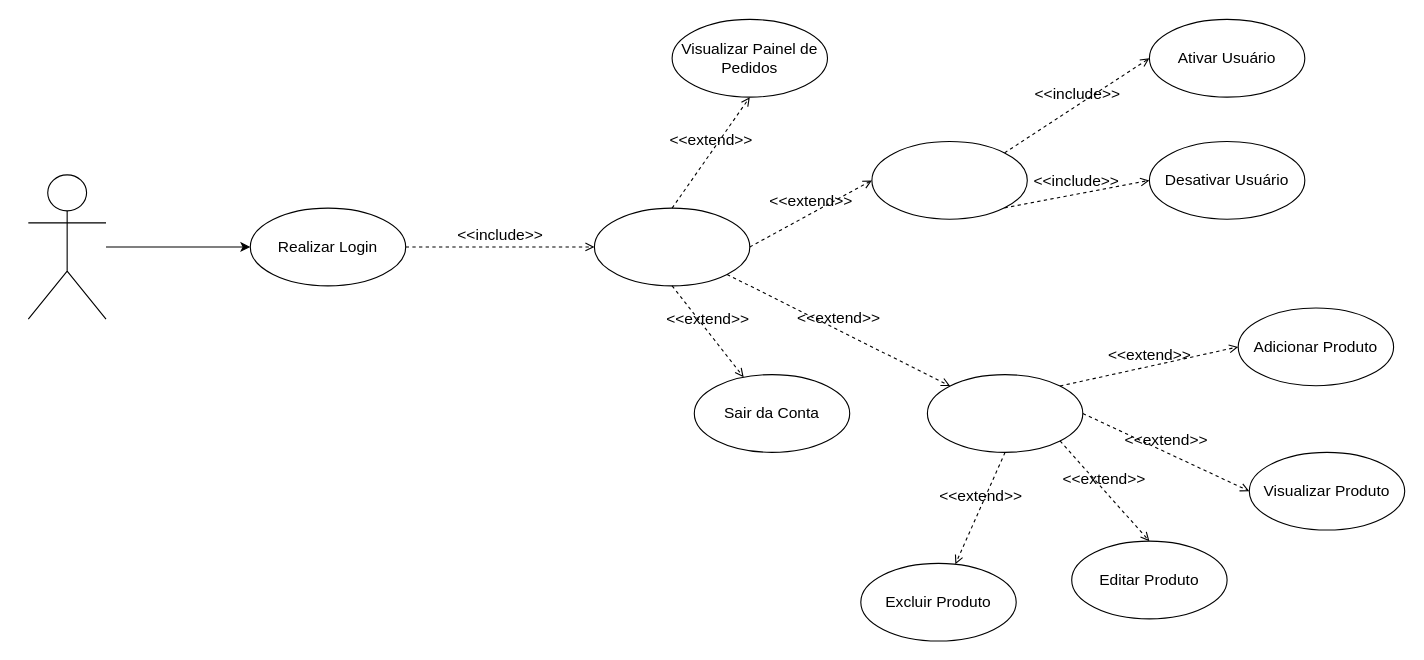
Image size: 1424x660. Some labels were removed from this diagram. The shapes that lost their labels are listed below. From the top down, each one's centre as x and y in pixels, then its label:
(949,179): Administrar Usuários
(66,246): Administrador
(671,246): Visualizar Relatórios/Gráficos
(1004,413): Gerenciar Produtos
